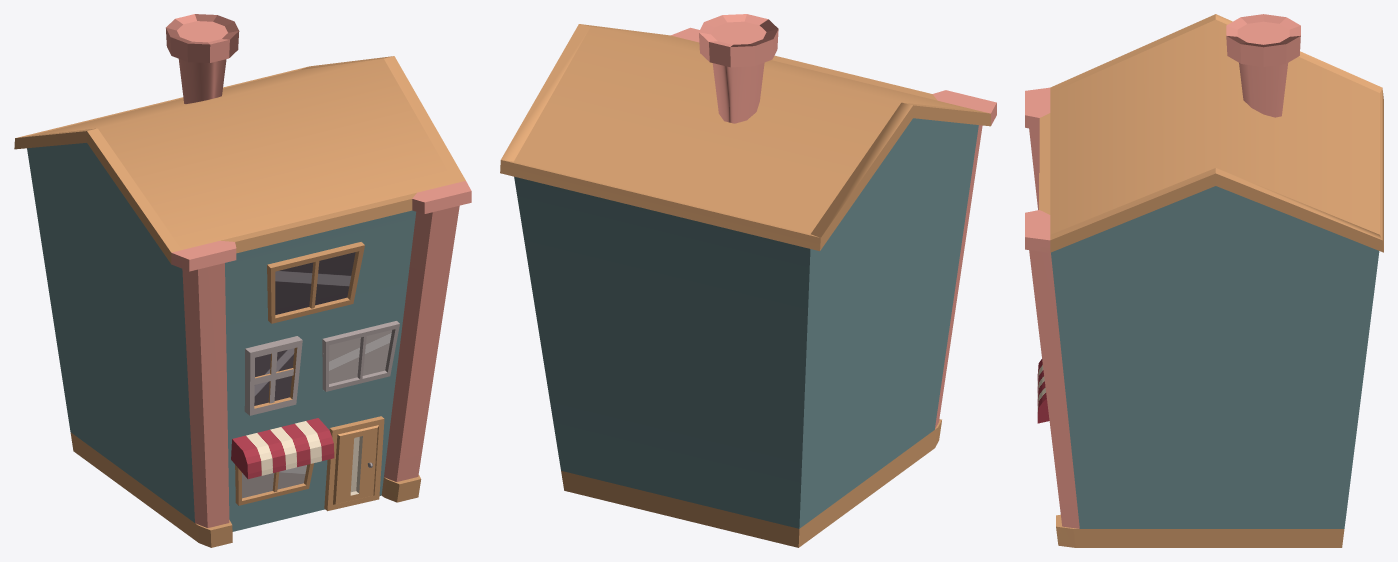
File: House7.FBX
3 views of the same model, side by side, from view 1: azimuth 30°, elevation 25°; view 2: azimuth 150°, elevation 25°; view 3: azimuth 270°, elevation 25° (orthographic). The views are drawn at different scales.
Parts seen in each view (by area): view 1: House007; view 2: House007; view 3: House007.
Part boxes in pixels (x1=…): House007: x1=14, y1=14, x2=471, y2=547; House007: x1=500, y1=14, x2=996, y2=547; House007: x1=1025, y1=14, x2=1383, y2=547.
Size of the model in its own units: 294 by 390 by 280.
